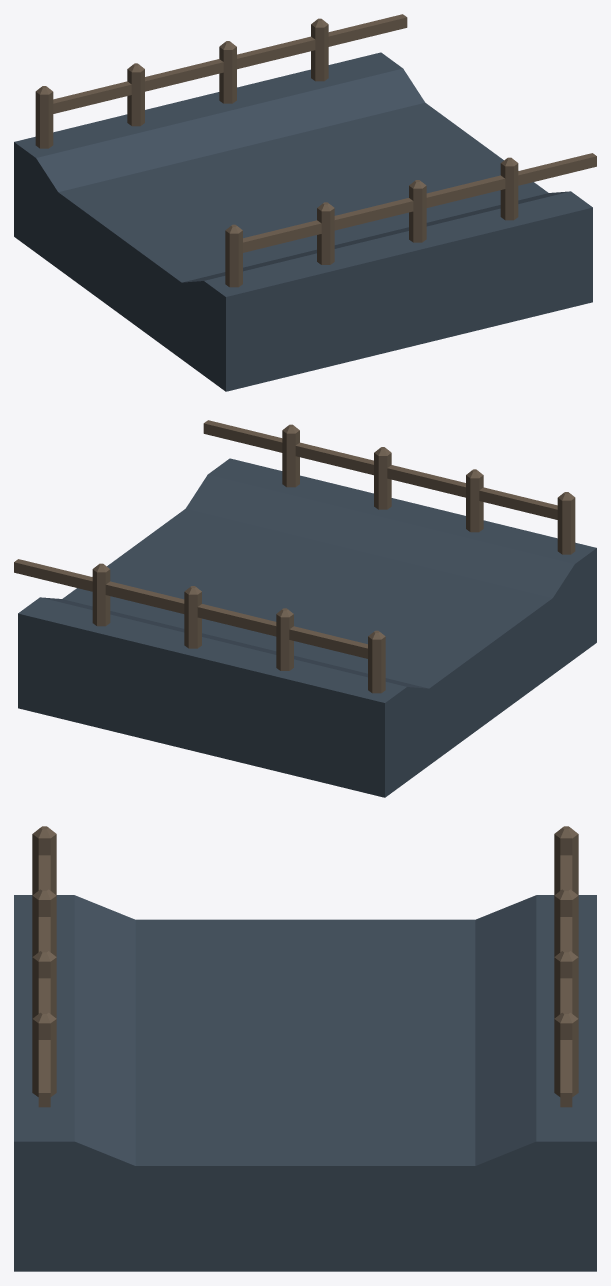
File: SM_Bridge.fbx
3 views of the same model, one above another, from view 1: azimuth 30°, elevation 25°; view 2: azimuth 150°, elevation 25°; view 3: azimuth 270°, elevation 25° (orthographic). The views are drawn at different scales.
Visible parts, largest first — view 1: SM_Bridge; view 2: SM_Bridge; view 3: SM_Bridge.
Part boxes in pixels (x1,y1,x2,y2): SM_Bridge: [14, 14, 596, 391]; SM_Bridge: [14, 420, 596, 797]; SM_Bridge: [14, 826, 596, 1271].
Bounding box in the file's own units: 1035 × 399 × 1000.
